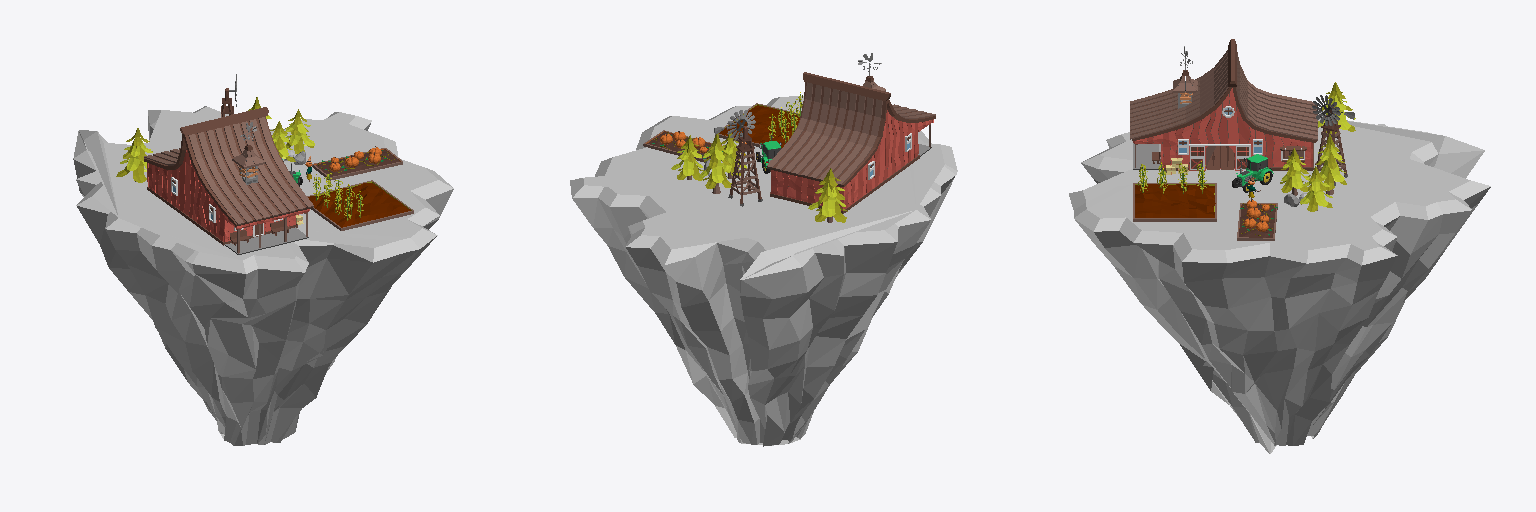
3 views of the same model, side by side, from view 1: azimuth 30°, elevation 25°; view 2: azimuth 150°, elevation 25°; view 3: azimuth 270°, elevation 25° (orthographic).
Visible parts, largest first — view 1: clif_Plane, Cube.014_Cube.001, Cube.010_Cube.001, Plane.005_Plane.001, Cube.009_Cube.001; view 2: clif_Plane, Cube.014_Cube.001, Plane.005_Plane.001, Cube.010_Cube.001, Plane.000_Plane.001, Cube.009_Cube.001; view 3: clif_Plane, Cube.014_Cube.001, Cube.010_Cube.001, Plane.005_Plane.001, Cube.009_Cube.001, Plane.000_Plane.001, Cube.011_Cube.001.
Part boxes in pixels (left/top/right/bottom): clif_Plane: left=73, top=106, right=453, bottom=445; Cube.014_Cube.001: left=144, top=107, right=313, bottom=254; Cube.010_Cube.001: left=307, top=173, right=413, bottom=230; Plane.005_Plane.001: left=116, top=97, right=314, bottom=182; Cube.009_Cube.001: left=312, top=146, right=402, bottom=180; clif_Plane: left=570, top=96, right=957, bottom=446; Cube.014_Cube.001: left=766, top=53, right=935, bottom=213; Plane.005_Plane.001: left=671, top=133, right=847, bottom=222; Cube.010_Cube.001: left=715, top=92, right=802, bottom=147; Plane.000_Plane.001: left=714, top=110, right=762, bottom=206; Cube.009_Cube.001: left=643, top=130, right=724, bottom=162; clif_Plane: left=1069, top=110, right=1490, bottom=453; Cube.014_Cube.001: left=1130, top=39, right=1317, bottom=170; Cube.010_Cube.001: left=1133, top=161, right=1216, bottom=221; Plane.005_Plane.001: left=1280, top=82, right=1355, bottom=211; Cube.009_Cube.001: left=1237, top=199, right=1277, bottom=240; Plane.000_Plane.001: left=1312, top=95, right=1354, bottom=185; Cube.011_Cube.001: left=1232, top=154, right=1273, bottom=192.
Bounding box in the file's own units: 55.01 × 60.83 × 64.13.
11 materials, 1 textured.